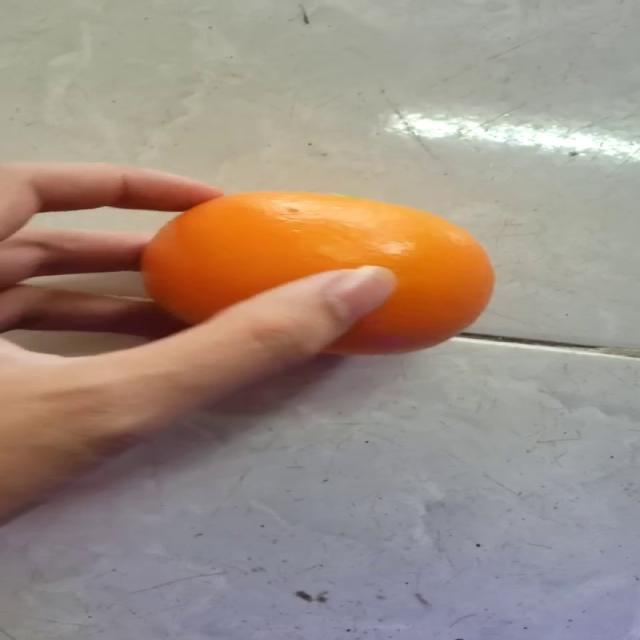Orange: (139, 189, 495, 356)
